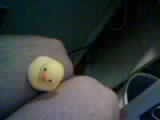duck: (28, 39, 69, 94)
